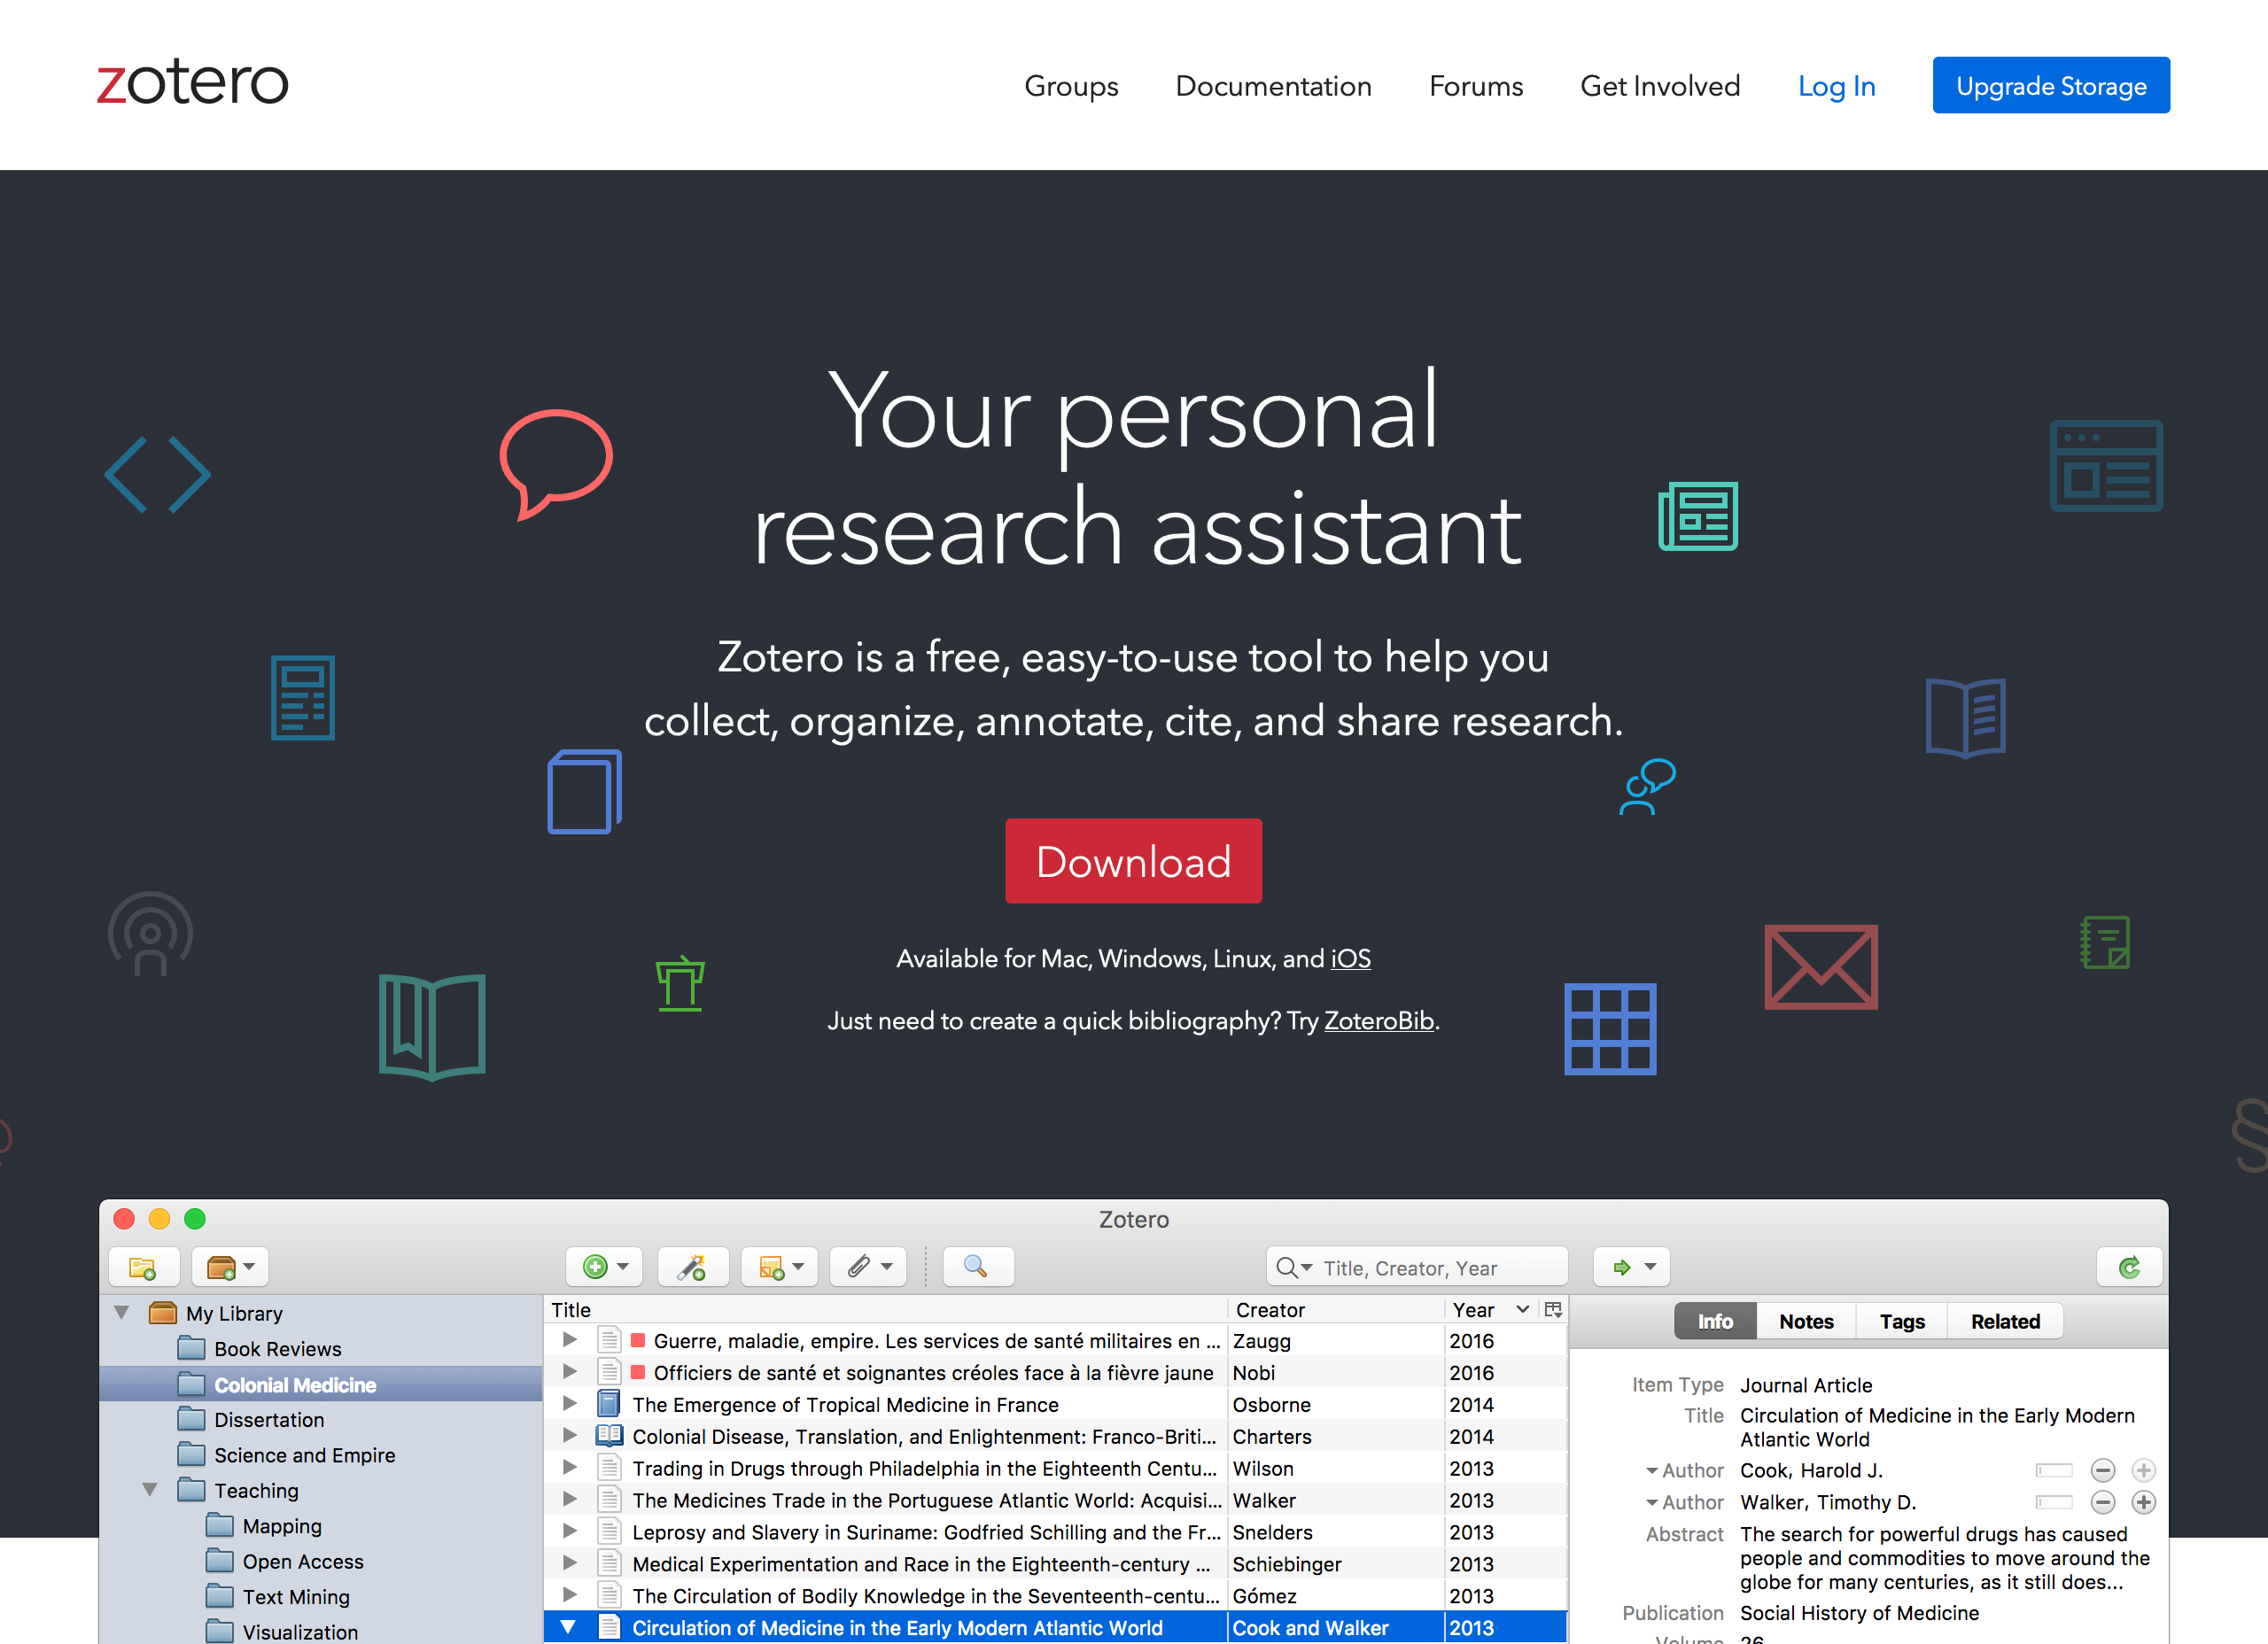Login: (1778, 49, 1898, 116)
